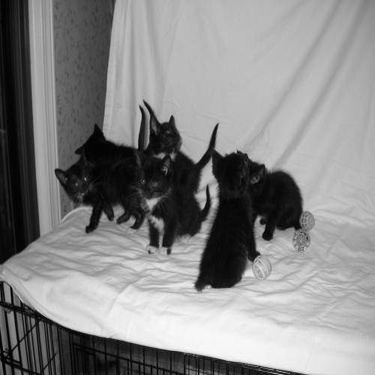cat: (196, 152, 260, 292), (130, 154, 215, 257), (74, 122, 140, 231), (248, 162, 305, 239), (52, 150, 104, 234), (141, 96, 182, 166)
